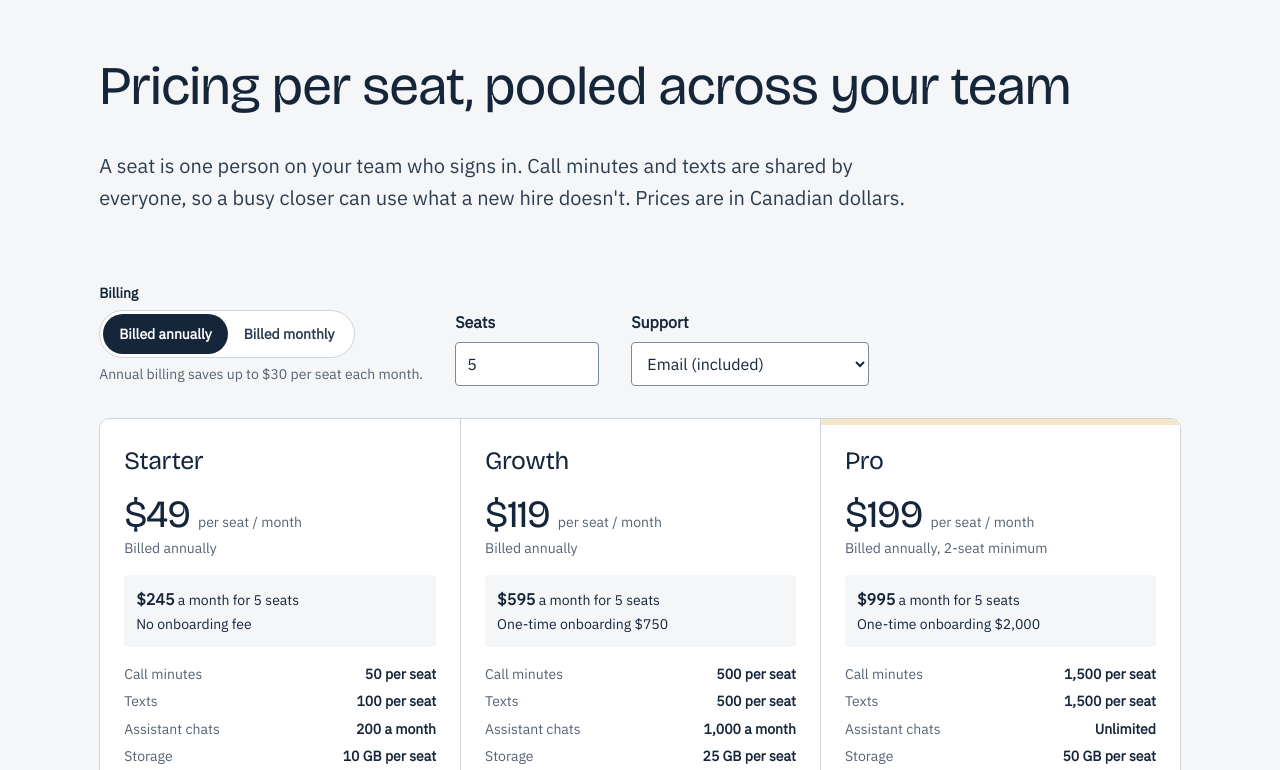
Test: Pricing page › switches between annual and monthly and recalculates seat totals
Check: the text "$119" is shown, box [485,490,550,536]
Click the button "Billed monthly". click: (289, 334)
box: [228,314,350,354]
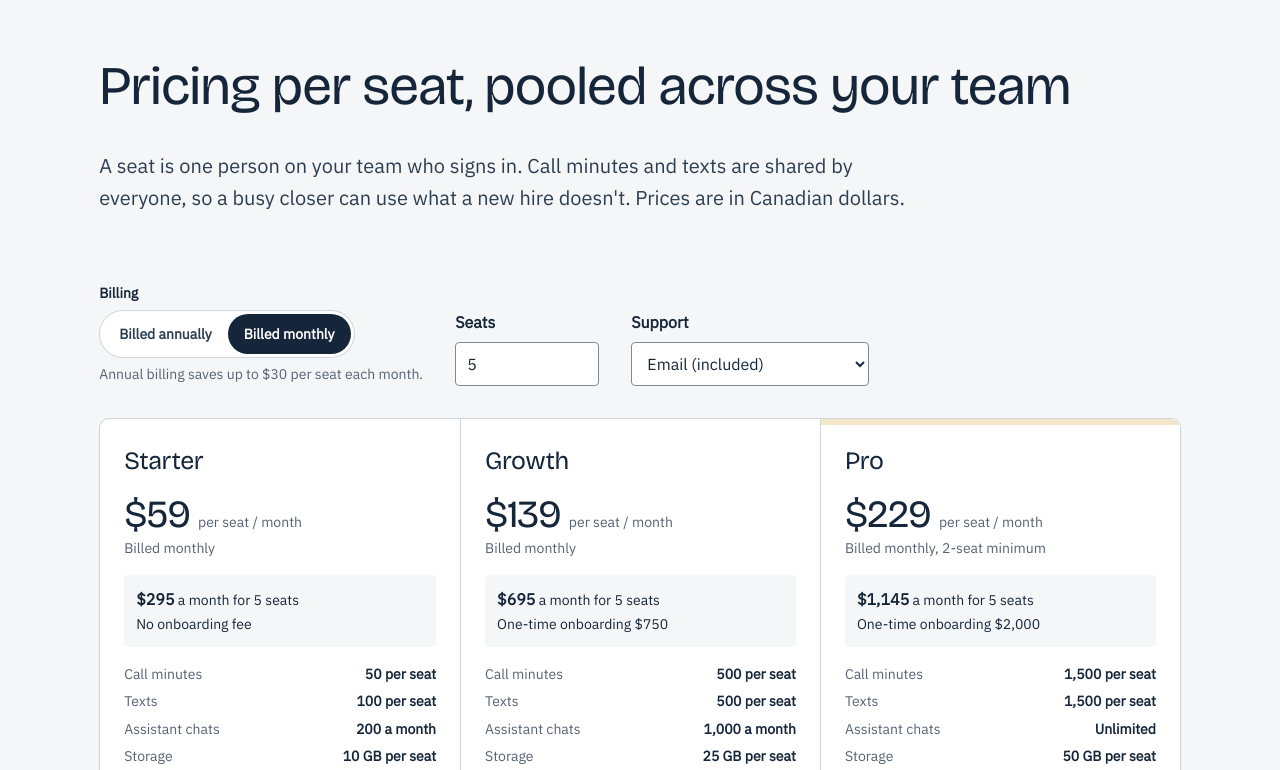
Check: the text "$139" is shown, box [485,490,561,536]
Replace the text in the number field labelled "Seats" with "1". click: (527, 364)
box: [455,342,599,386]
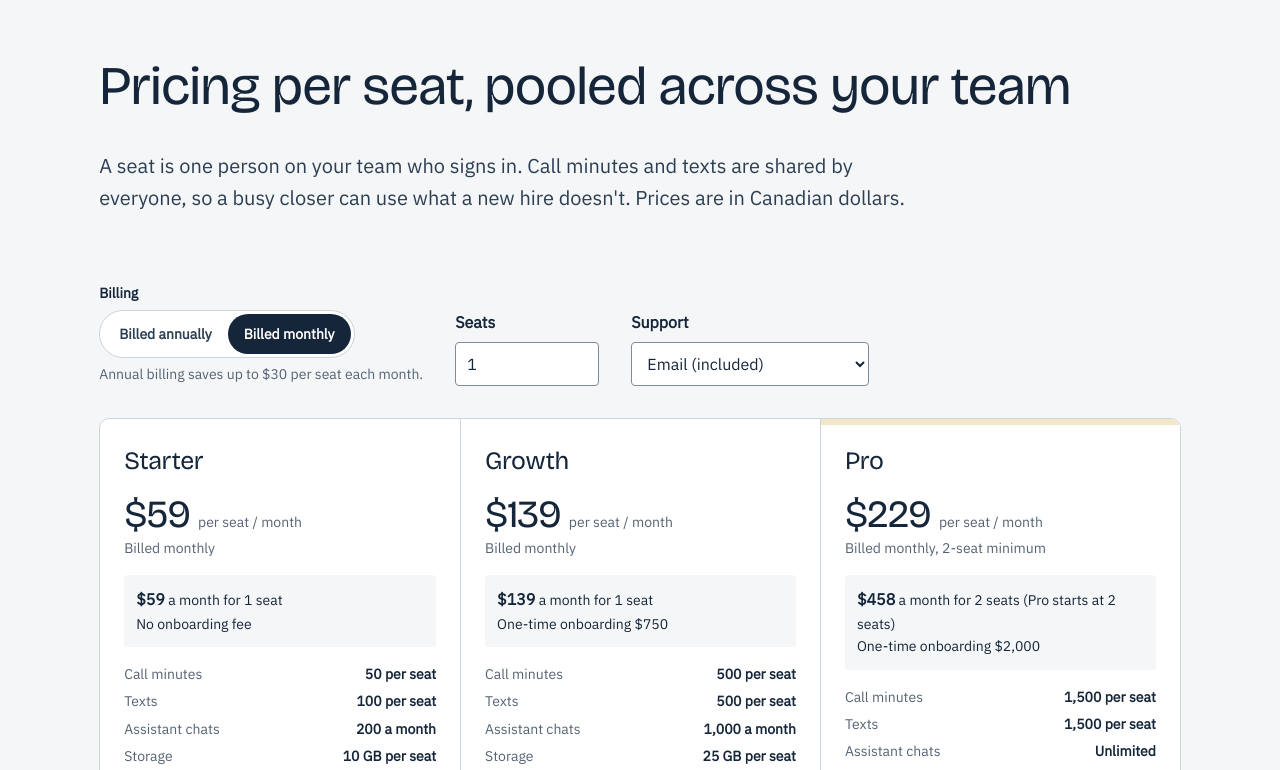
Check: the text "$458" is shown, box [857,589,895,609]
Check: the text "starts at 2 seats" is shown, box [845,575,1156,670]
